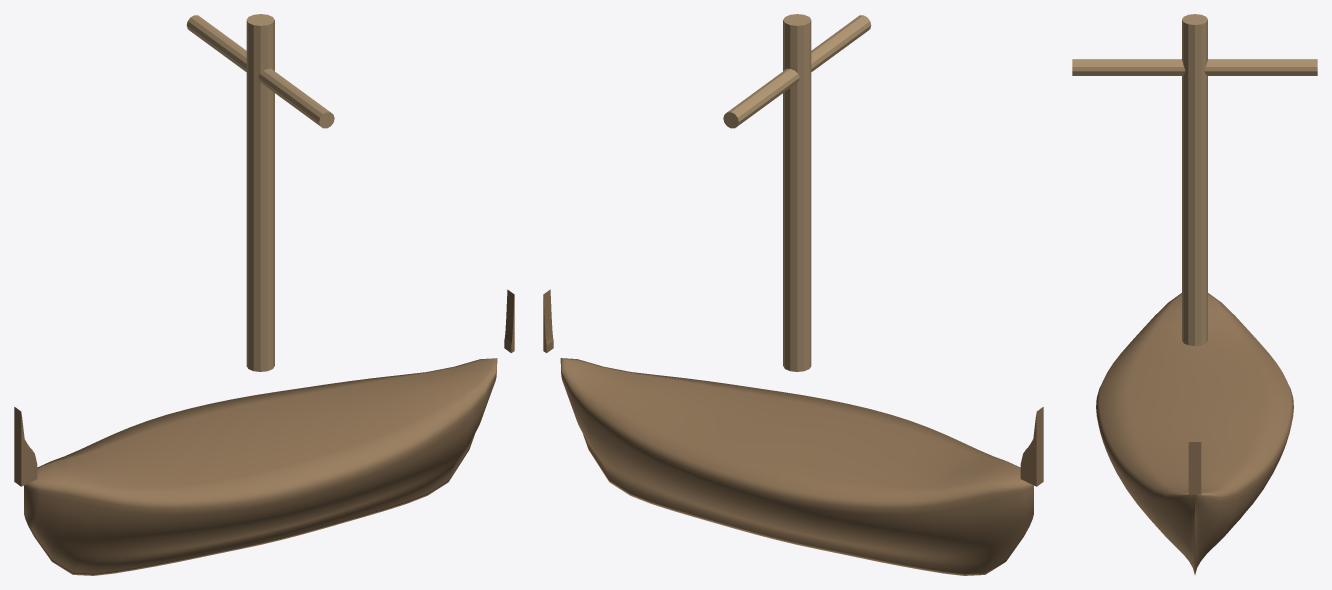
Rendered from hull-gamebox.glb.
3 views of the same model, side by side, from view 1: azimuth 30°, elevation 25°; view 2: azimuth 150°, elevation 25°; view 3: azimuth 270°, elevation 25° (orthographic). The views are drawn at different scales.
Parts seen in each view (by area): view 1: hull, Cylinder, Cylinder.001, posts; view 2: hull, Cylinder, Cylinder.001, posts; view 3: hull, Cylinder, Cylinder.001, posts.
Boxes of the visible parts, left/top/right/bottom form: hull: left=24, top=358, right=497, bottom=575; Cylinder: left=246, top=14, right=274, bottom=371; Cylinder.001: left=186, top=15, right=334, bottom=128; posts: left=14, top=289, right=514, bottom=486; hull: left=560, top=358, right=1033, bottom=575; Cylinder: left=783, top=14, right=811, bottom=371; Cylinder.001: left=723, top=15, right=871, bottom=128; posts: left=543, top=289, right=1043, bottom=486; hull: left=1096, top=293, right=1293, bottom=574; Cylinder: left=1182, top=14, right=1207, bottom=345; Cylinder.001: left=1072, top=59, right=1317, bottom=75; posts: left=1188, top=441, right=1201, bottom=494.
Bounding box in the file's own units: 0.8863 × 0.9012 × 0.4119.
